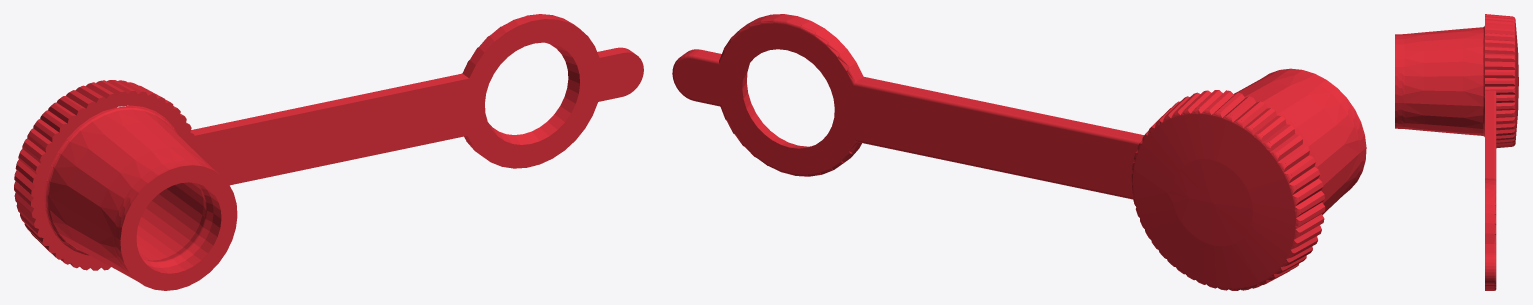
3 views of the same model, side by side, from view 1: azimuth 30°, elevation 25°; view 2: azimuth 150°, elevation 25°; view 3: azimuth 270°, elevation 25° (orthographic). The views are drawn at different scales.
Parts seen in each view (by area): view 1: 10066010; view 2: 10066010; view 3: 10066010.
Part boxes in pixels (x1,y1,x2,y2): 10066010: (14,14,643,290); 10066010: (672,14,1366,290); 10066010: (1395,14,1518,290).
Bounding box in the file's own units: 1 × 0.2729 × 0.2501.
